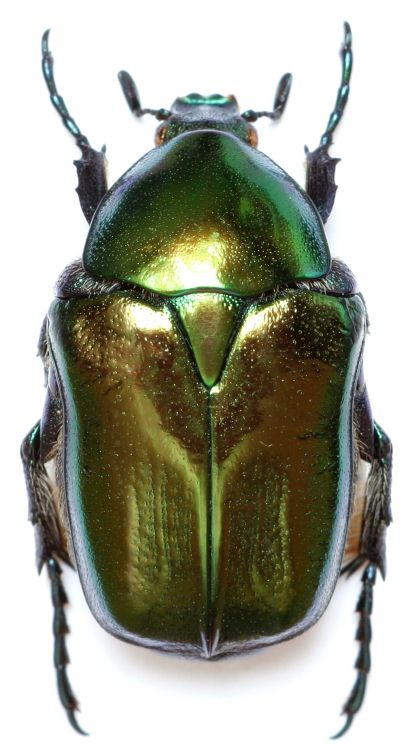Protaetia_besucheti: (4, 15, 413, 741)
